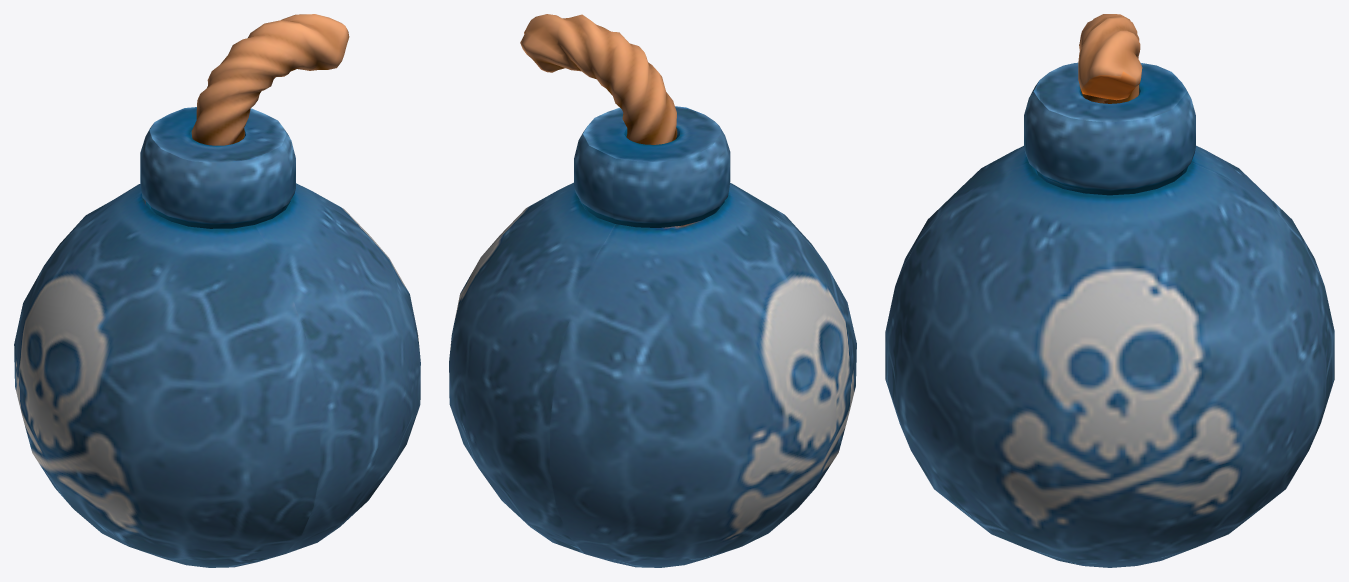
The model's file is Bomb.FBX.
3 views of the same model, side by side, from view 1: azimuth 30°, elevation 25°; view 2: azimuth 150°, elevation 25°; view 3: azimuth 270°, elevation 25° (orthographic). The views are drawn at different scales.
Parts seen in each view (by area): view 1: Bomb-1, Bomb; view 2: Bomb-1, Bomb; view 3: Bomb-1, Bomb.
Part boxes in pixels (<box>): Bomb-1: <box>14,107,420,567</box>; Bomb: <box>191,14,349,145</box>; Bomb-1: <box>449,106,856,567</box>; Bomb: <box>520,14,677,144</box>; Bomb-1: <box>885,62,1334,567</box>; Bomb: <box>1078,14,1142,103</box>.
Size of the model in its own units: 48.15 by 66.55 by 48.1.
Materials: 1 (1 with a texture image).
